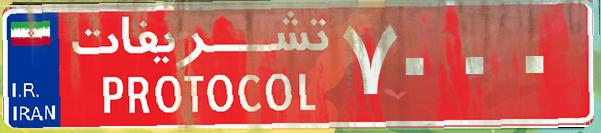0: (400, 20, 460, 115), (460, 20, 520, 115), (520, 20, 580, 115)
7: (340, 20, 400, 115)
تشریفات: (60, 8, 340, 125)
